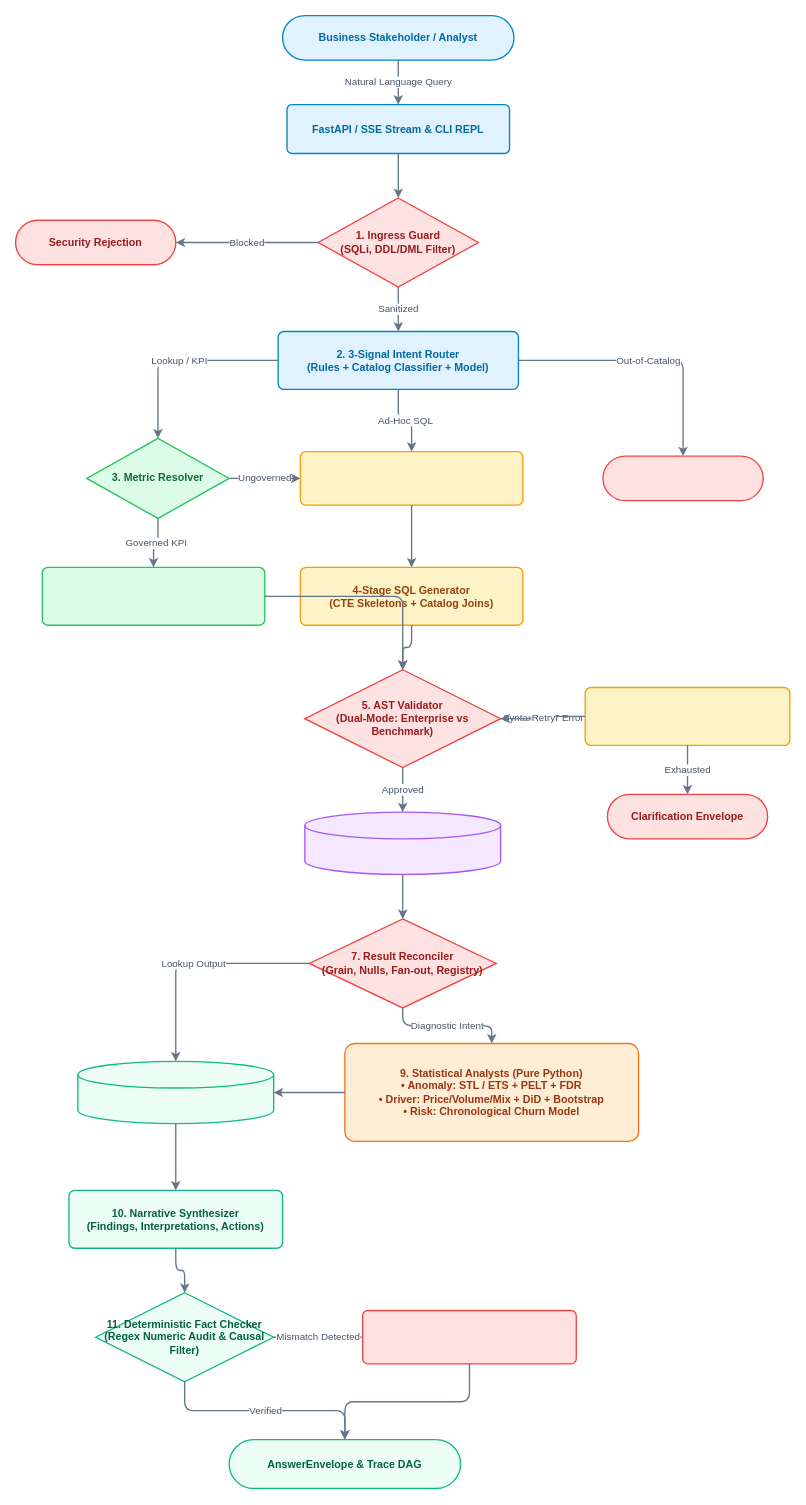
The diagram is 806 pixels wide and 1505 high, and some of its shapes have lost their labels. The shapes that lost their labels are listed below. From the top down, each one's centre as x and y in pixels, then its label:
At (411,478): "4. Schema Perceptor & Value Linker".
At (682,478): "Refusal (ABS-1)".
At (153,595): "Deterministic SQL Compiler (Strict Jinja2 AST; Zero-LLM)".
At (687,716): "Self-Repair Reflector (Max 2 Tries; Frozen Schema)".
At (402,843): "6. Read-Only Gateway (SQLite / Pool, 10s Budget)".
At (175,1092): "8. Evidence Ledger (Numbered Claims C1..Cn)".
At (469,1336): "Purge Claim / Template Fallback".
